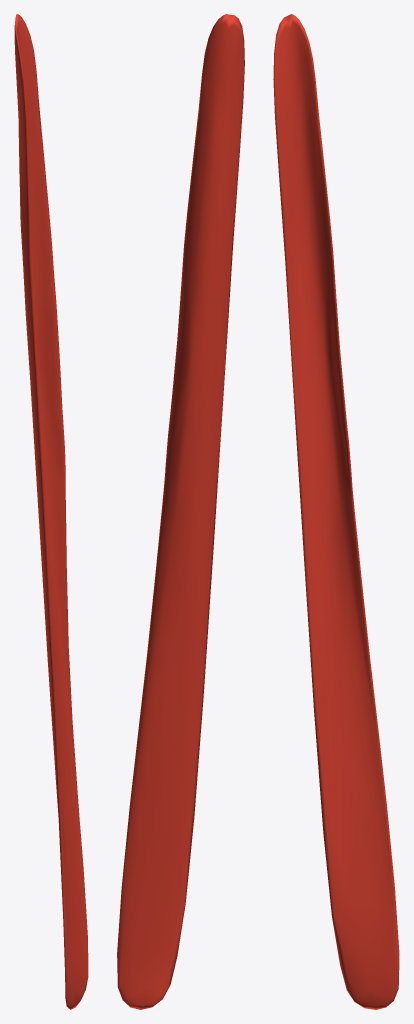
File: Fibularis_brevis_lateral_fibula_right.glb
3 views of the same model, side by side, from view 1: azimuth 30°, elevation 25°; view 2: azimuth 150°, elevation 25°; view 3: azimuth 330°, elevation 25° (orthographic). The views are drawn at different scales.
Parts seen in each view (by area): view 1: Fibularis_brevis_on_lateral_side_of_fibula.r_Generated_Mesh_; view 2: Fibularis_brevis_on_lateral_side_of_fibula.r_Generated_Mesh_; view 3: Fibularis_brevis_on_lateral_side_of_fibula.r_Generated_Mesh_.
Part boxes in pixels (left/top/right/bottom): Fibularis_brevis_on_lateral_side_of_fibula.r_Generated_Mesh_: left=14, top=14, right=88, bottom=1009; Fibularis_brevis_on_lateral_side_of_fibula.r_Generated_Mesh_: left=117, top=14, right=244, bottom=1009; Fibularis_brevis_on_lateral_side_of_fibula.r_Generated_Mesh_: left=273, top=14, right=399, bottom=1009.
Bounding box in the file's own units: 0.0164 × 0.1621 × 0.00986.
